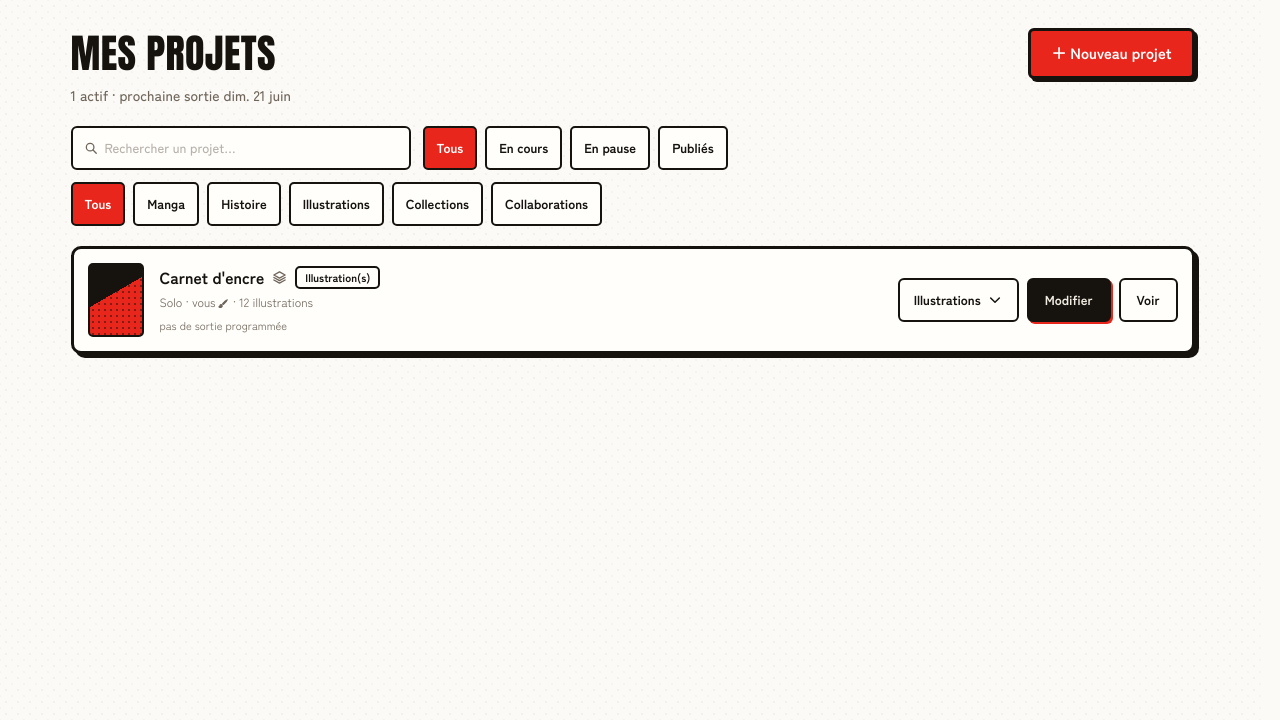
Test: ProjetsClient (CS-12) › expands when clicking the collection card body (outside the caret and links)
The image size is (1280, 720).
What coordinates should you click on to do the following:
click the text "Carnet d'encre"
I would click on:
 (212, 277)
Its box is [160, 265, 264, 289].
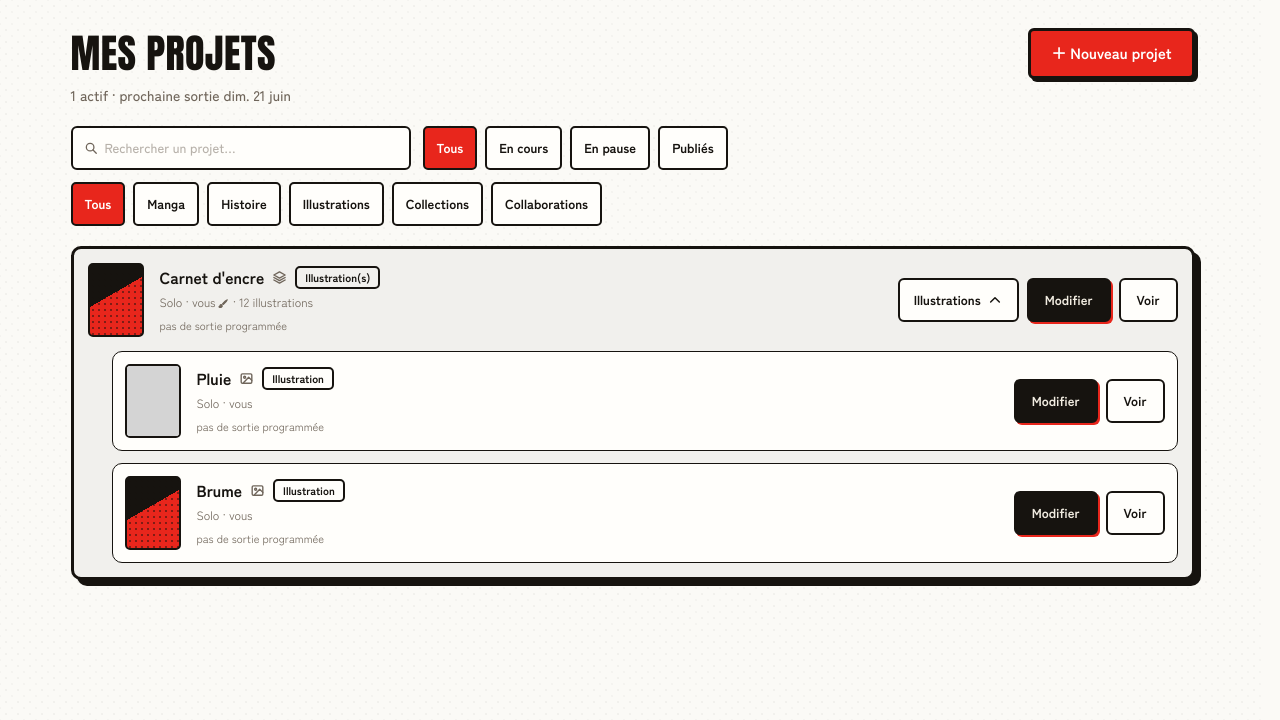
Expected: the button named "voir les illustrations" is expanded, [898, 278, 1019, 322]
